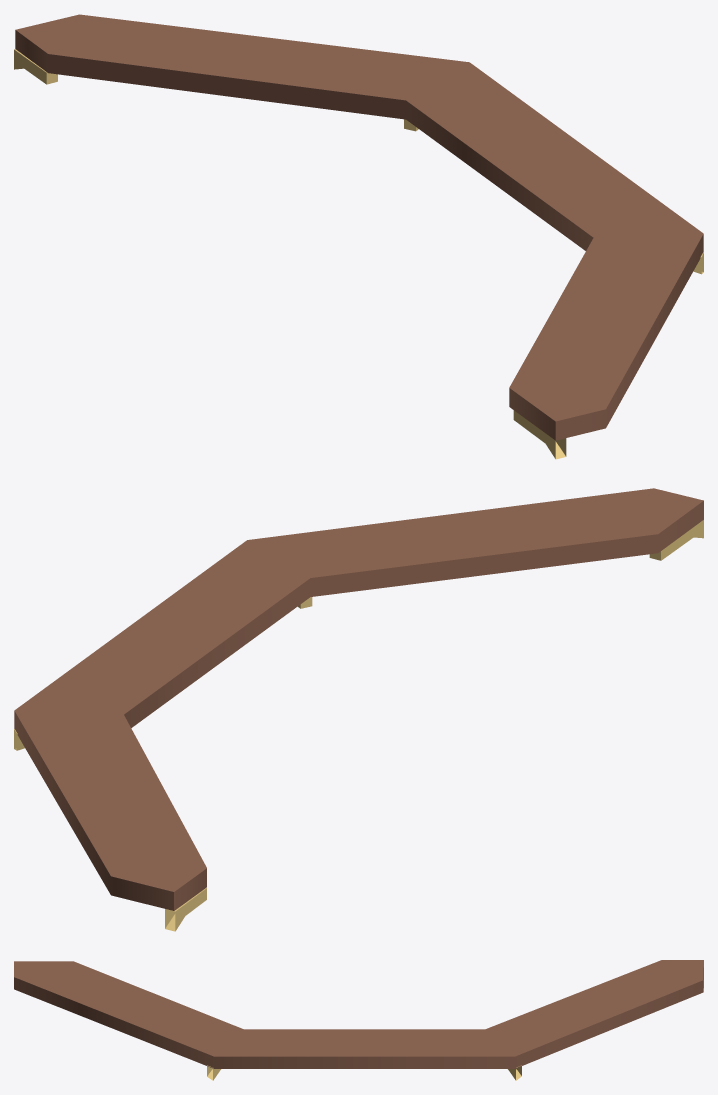
Rendered from ShelfWindow.fbx.
The picture shows the model from 3 angles, top to bottom: view 1: azimuth 30°, elevation 25°; view 2: azimuth 150°, elevation 25°; view 3: azimuth 270°, elevation 25°; orthographic projection. The views are drawn at different scales.
Visible parts, largest first — view 1: Shelf_window.001; view 2: Shelf_window.001; view 3: Shelf_window.001.
Part boxes in pixels (<box>): Shelf_window.001: <box>14,14,703,459</box>; Shelf_window.001: <box>14,488,703,931</box>; Shelf_window.001: <box>14,960,703,1080</box>.
Bounding box in the file's own units: 77.14 × 9.42 × 232.
